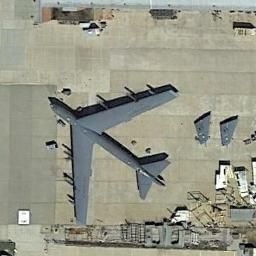Airplane: (36, 76, 180, 228)
